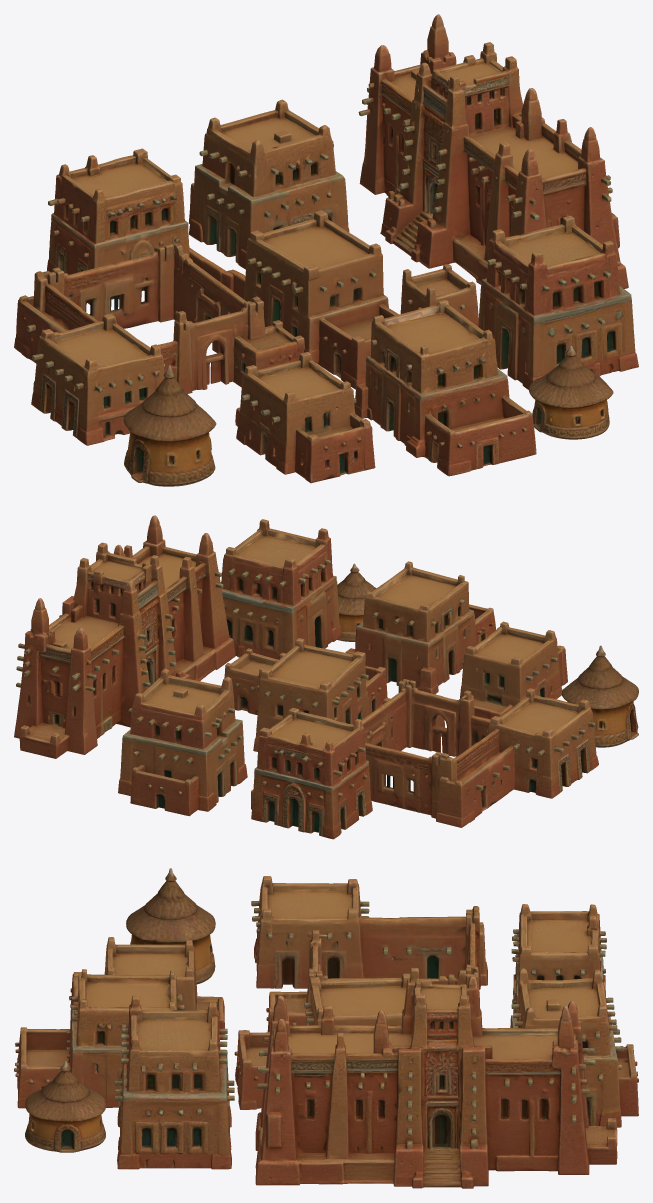
File: Enlightenment Village (West African).fbx
3 renders of one model, top to bottom at view 1: azimuth 30°, elevation 25°; view 2: azimuth 150°, elevation 25°; view 3: azimuth 270°, elevation 25°, orthographic. The views are drawn at different scales.
Visible parts, largest first — view 1: tripo_node_1cfef13f; view 2: tripo_node_1cfef13f; view 3: tripo_node_1cfef13f.
Part boxes in pixels (x1,y1,x2,y2): tripo_node_1cfef13f: [14, 14, 638, 486]; tripo_node_1cfef13f: [14, 515, 638, 839]; tripo_node_1cfef13f: [14, 868, 638, 1188].
Bounding box in the file's own units: 1 × 0.3508 × 0.9936.
